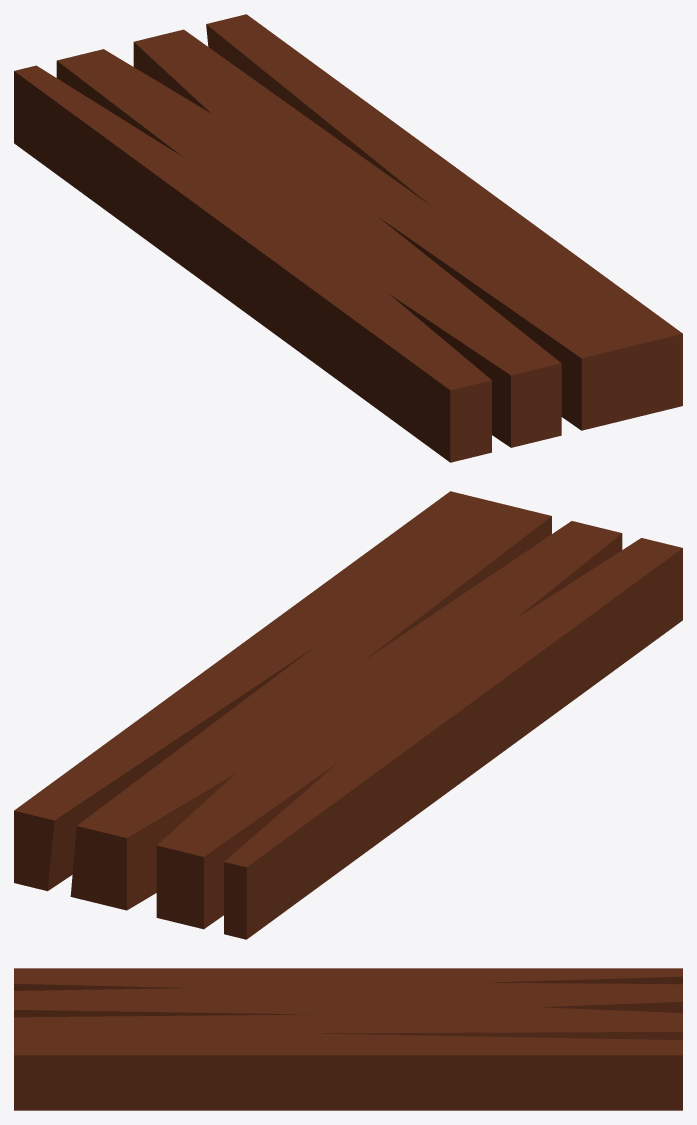
The model's file is Wood.fbx.
3 views of the same model, one above another, from view 1: azimuth 30°, elevation 25°; view 2: azimuth 150°, elevation 25°; view 3: azimuth 270°, elevation 25° (orthographic). The views are drawn at different scales.
Parts seen in each view (by area): view 1: Wood; view 2: Wood; view 3: Wood.
Part boxes in pixels (left/top/right/bottom): Wood: left=14, top=14, right=682, bottom=462; Wood: left=14, top=491, right=682, bottom=939; Wood: left=14, top=968, right=682, bottom=1110.
Bounding box in the file's own units: 50 × 14.86 × 163.
